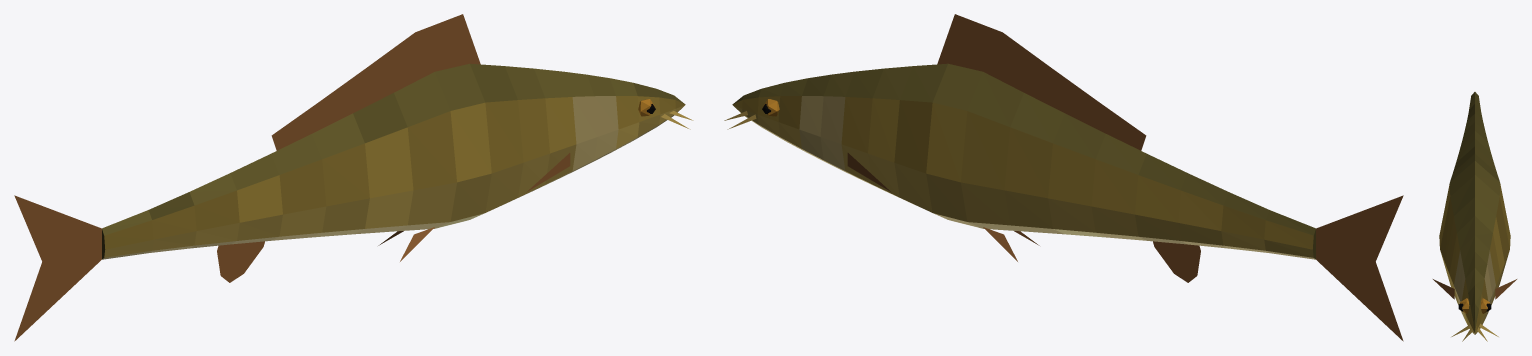
File: common-carp.glb
3 renders of one model, left to right at view 1: azimuth 30°, elevation 25°; view 2: azimuth 150°, elevation 25°; view 3: azimuth 270°, elevation 25°, orthographic. The views are drawn at different scales.
Parts seen in each view (by area): view 1: common-carp; view 2: common-carp; view 3: common-carp.
Part boxes in pixels (<box>): common-carp: <box>14,14,693,341</box>; common-carp: <box>724,14,1403,341</box>; common-carp: <box>1433,92,1516,341</box>.
Size of the model in its own units: 1.15 by 0.3638 by 0.16.
